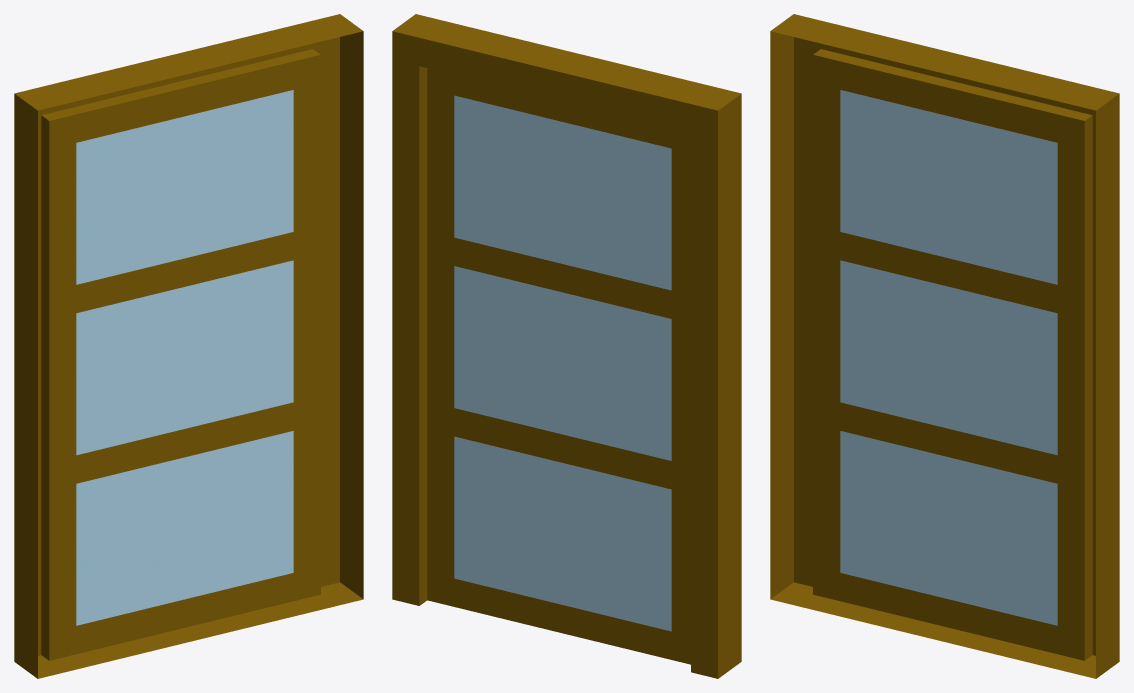
Rendered from ThreeWindowDoor.fbx.
3 views of the same model, side by side, from view 1: azimuth 30°, elevation 25°; view 2: azimuth 150°, elevation 25°; view 3: azimuth 330°, elevation 25° (orthographic).
Parts seen in each view (by area): view 1: ThreeWindowDoor_LOD0; view 2: ThreeWindowDoor_LOD0; view 3: ThreeWindowDoor_LOD0.
Part boxes in pixels (x1,y1,x2,y2): ThreeWindowDoor_LOD0: [14, 14, 363, 678]; ThreeWindowDoor_LOD0: [392, 14, 741, 678]; ThreeWindowDoor_LOD0: [770, 14, 1119, 678].
Size of what is drawn, in the model's own units: 240 by 400 by 30.
